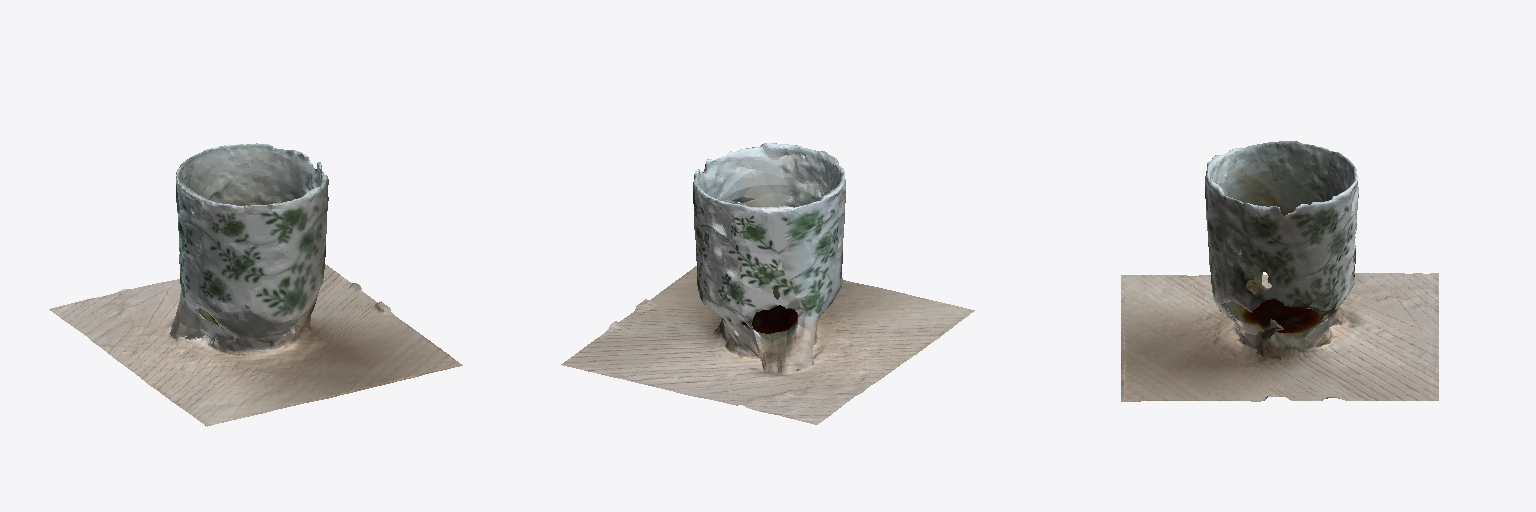
The picture shows the model from 3 angles: view 1: azimuth 30°, elevation 25°; view 2: azimuth 150°, elevation 25°; view 3: azimuth 270°, elevation 25°; orthographic projection.
Visible parts, largest first — view 1: default; view 2: default; view 3: default.
Boxes of the visible parts, x1=… form: default: x1=49, y1=143, x2=462, y2=426; default: x1=561, y1=143, x2=974, y2=424; default: x1=1121, y1=141, x2=1438, y2=401.
Size of the model in its own units: 0.3639 by 0.2257 by 0.3898.
1 materials, 1 textured.